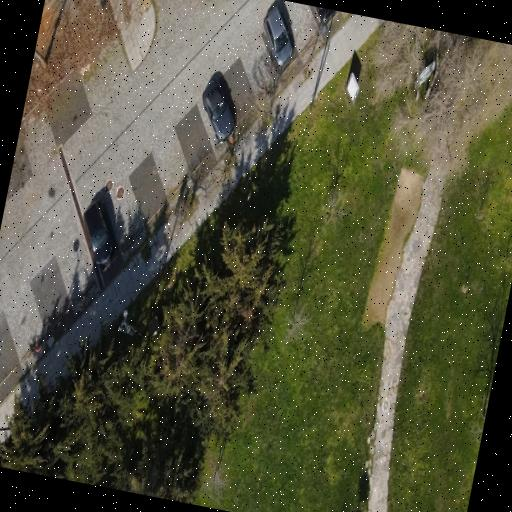person: (202, 73, 234, 142), (83, 201, 112, 266), (263, 6, 293, 67), (315, 7, 334, 24)
